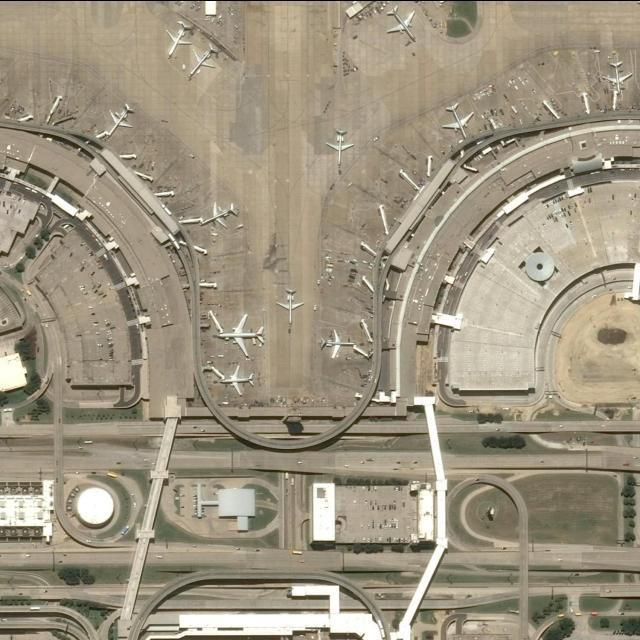Aircraft: (216, 314, 268, 358), (441, 98, 479, 140), (384, 4, 422, 44), (186, 44, 226, 82), (324, 126, 358, 168), (216, 363, 258, 397), (104, 99, 141, 137), (318, 327, 358, 361), (200, 200, 242, 232), (276, 285, 309, 325), (164, 21, 198, 58), (604, 58, 636, 94)
